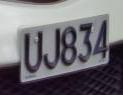3: (77, 20, 94, 69)
4: (93, 18, 110, 61)
8: (59, 22, 78, 72)
J: (43, 27, 62, 72)
U: (22, 27, 43, 78)
